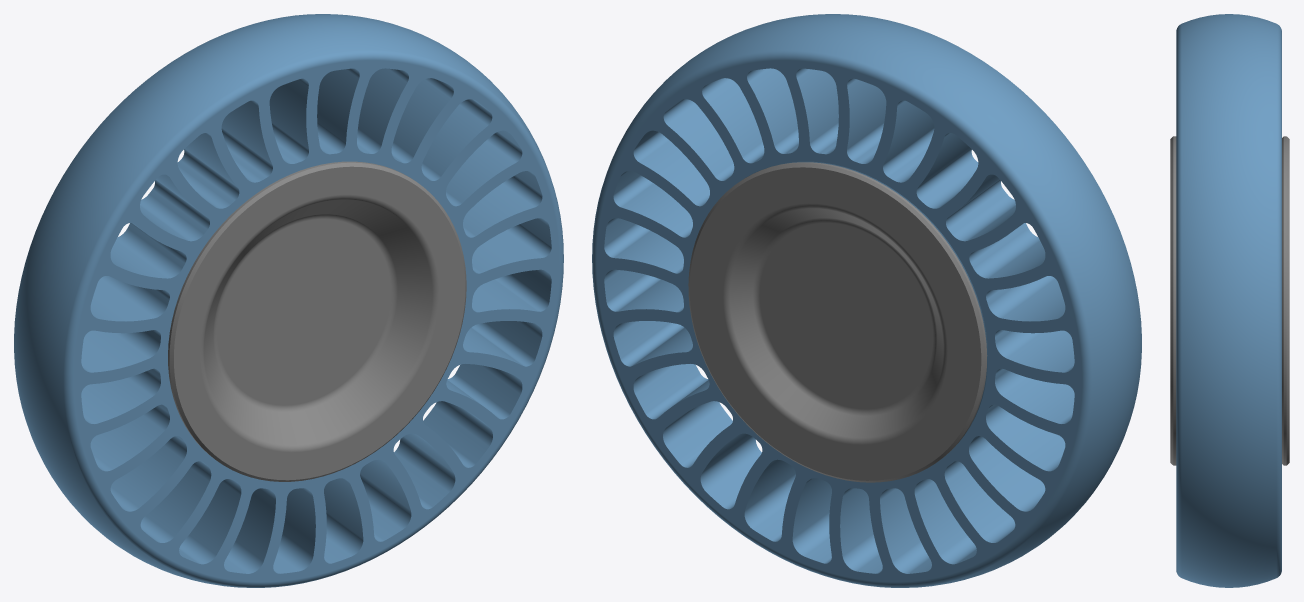
The model's file is wheel_l.dae.
3 renders of one model, left to right at view 1: azimuth 30°, elevation 25°; view 2: azimuth 150°, elevation 25°; view 3: azimuth 270°, elevation 25°, orthographic. The views are drawn at different scales.
Parts seen in each view (by area): view 1: wheel_l; view 2: wheel_l; view 3: wheel_l.
Boxes of the visible parts, box(x1,y1,x2,y2) form: wheel_l: box(14, 14, 563, 587); wheel_l: box(592, 14, 1141, 587); wheel_l: box(1170, 14, 1289, 587).
Bounding box in the file's own units: 0.19 × 0.0396 × 0.19.
